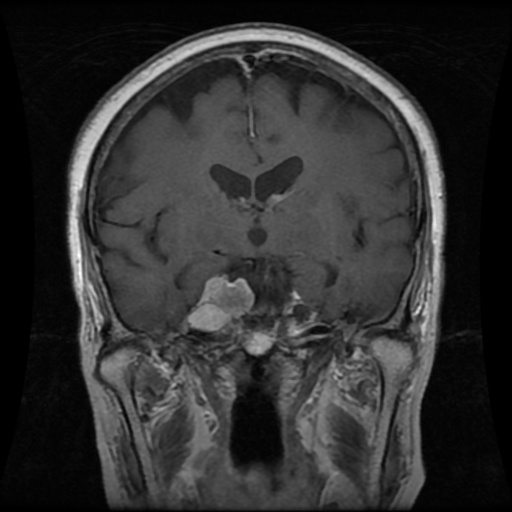meningioma: (186, 274, 255, 331)
